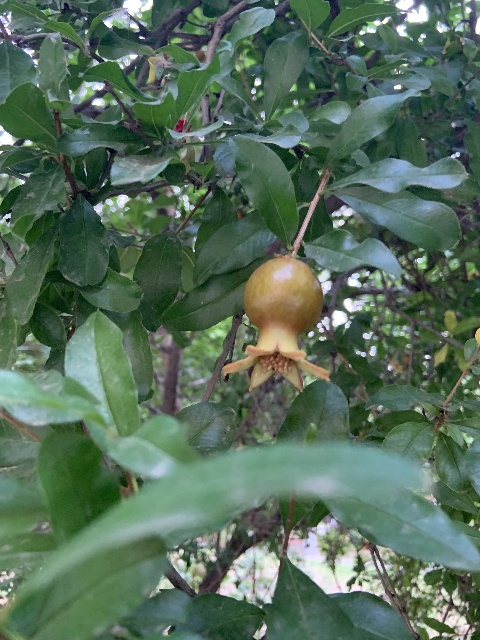early-fruit: (221, 256, 330, 395)
